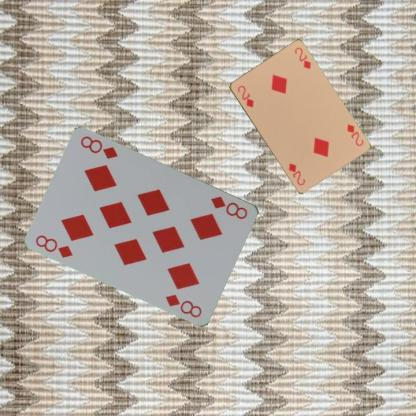2d: (234, 82, 254, 108), (344, 122, 364, 148)
8d: (209, 193, 250, 221), (33, 232, 74, 259)
